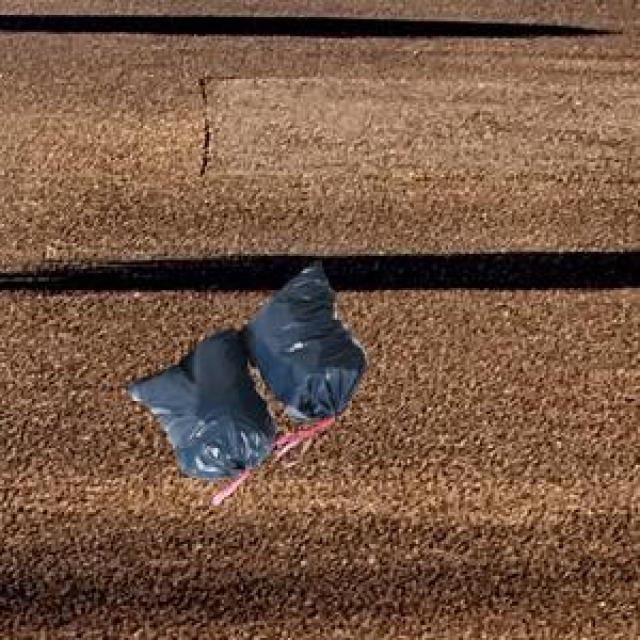miscellaneous trash: (120, 256, 363, 499)
